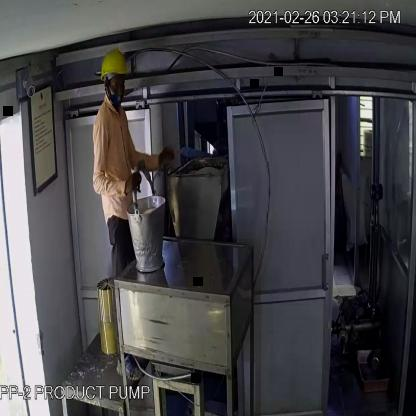helmet: (98, 46, 131, 92)
